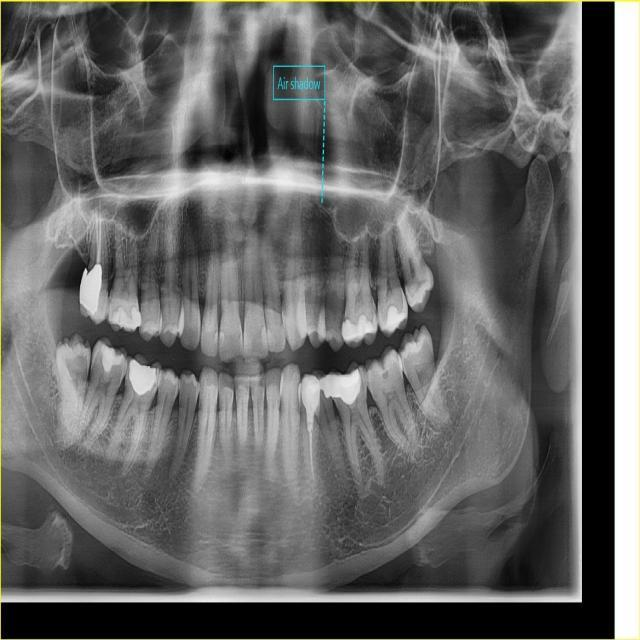74: (95, 199, 102, 263), (308, 430, 315, 482)
NucleOSS Implant: (119, 356, 160, 399), (78, 262, 103, 315), (316, 370, 332, 398)
Sterngold Implant: (411, 276, 428, 295), (382, 369, 389, 380), (201, 318, 206, 333), (237, 330, 243, 341), (214, 327, 218, 334)
Straumann Implant: (298, 374, 324, 431), (327, 367, 364, 407), (337, 310, 377, 345), (91, 341, 126, 375), (377, 303, 407, 335), (110, 305, 143, 332), (261, 326, 268, 348), (266, 329, 274, 346), (219, 331, 226, 345), (238, 333, 245, 346), (244, 329, 248, 348), (213, 331, 218, 345)
